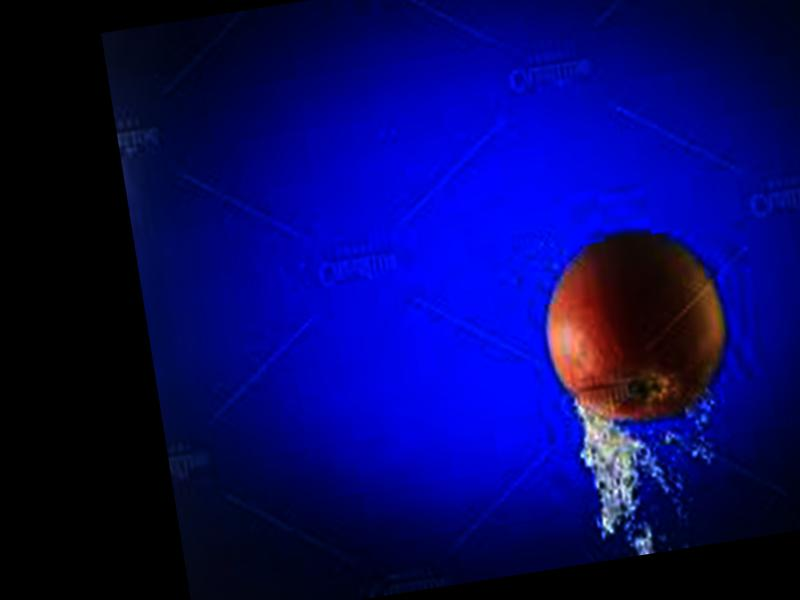Tomato: (533, 224, 740, 434)
